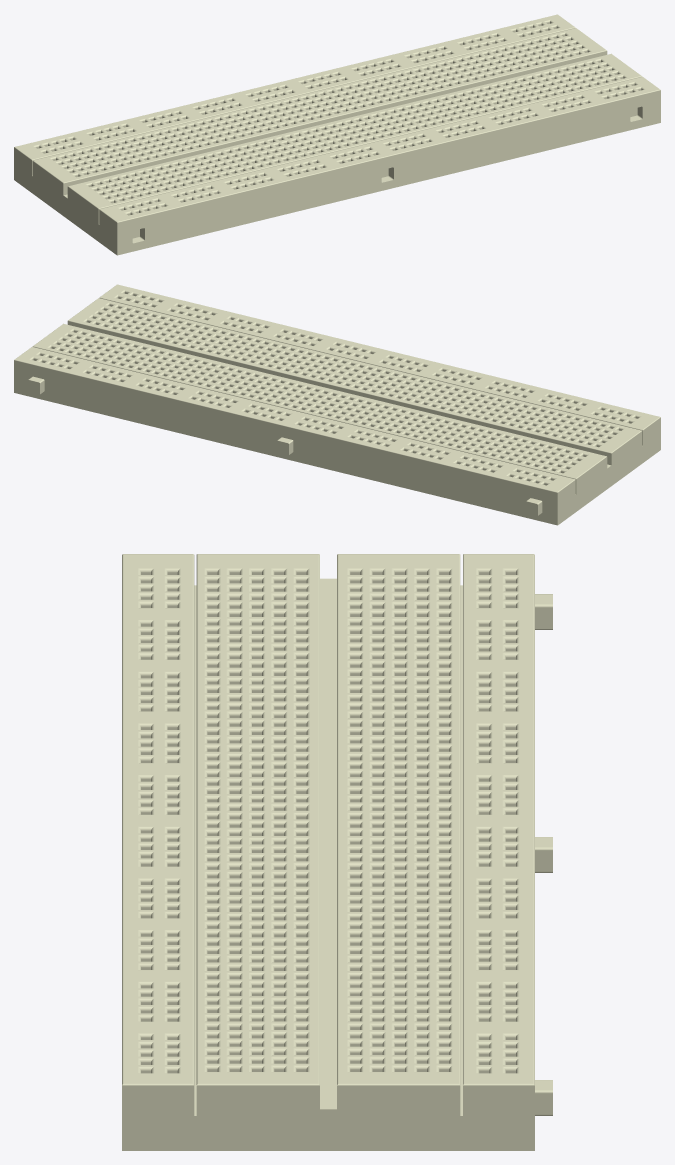
Rendered from Breadboard.fbx.
The picture shows the model from 3 angles, top to bottom: view 1: azimuth 30°, elevation 25°; view 2: azimuth 150°, elevation 25°; view 3: azimuth 270°, elevation 25°; orthographic projection. The views are drawn at different scales.
Parts seen in each view (by area): view 1: Breadboard; view 2: Breadboard; view 3: Breadboard.
Boxes of the visible parts, <box> form: Breadboard: <box>14,14,660,255</box>; Breadboard: <box>14,284,660,525</box>; Breadboard: <box>122,554,552,1150</box>.
Bounding box in the file's own units: 16.5 × 0.963 × 5.66.
